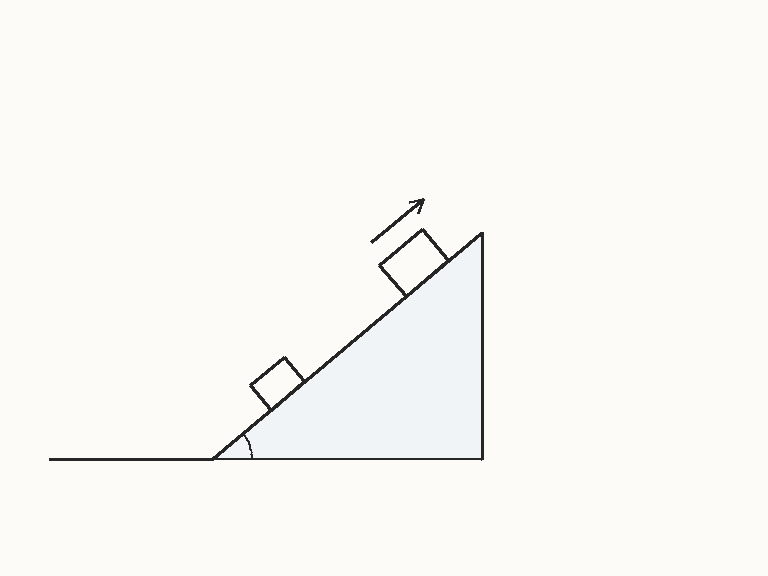block: (378, 227, 450, 298), (248, 355, 306, 412)
ramp: (210, 230, 484, 461)
